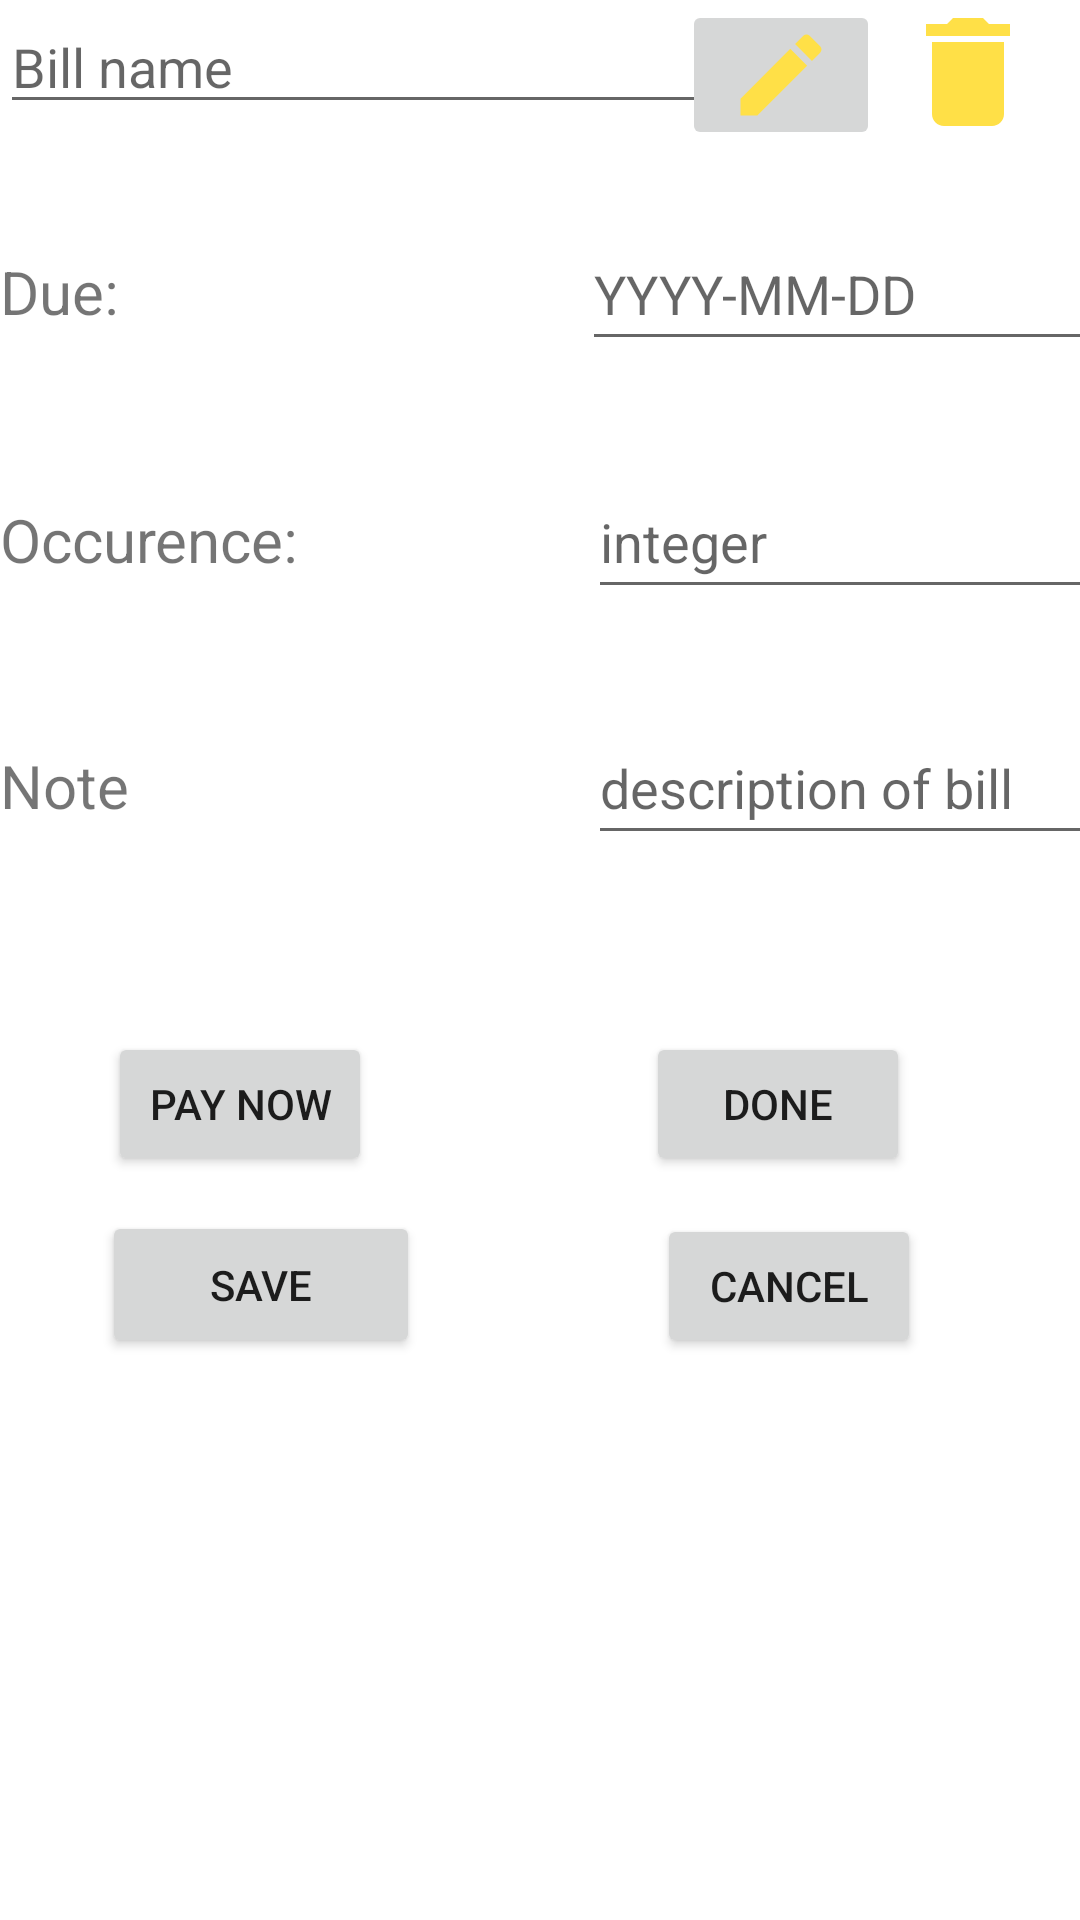

Point at icon controls on the screen. Image size 1080×1920, points as (x,y).
edit button: (775,75)
